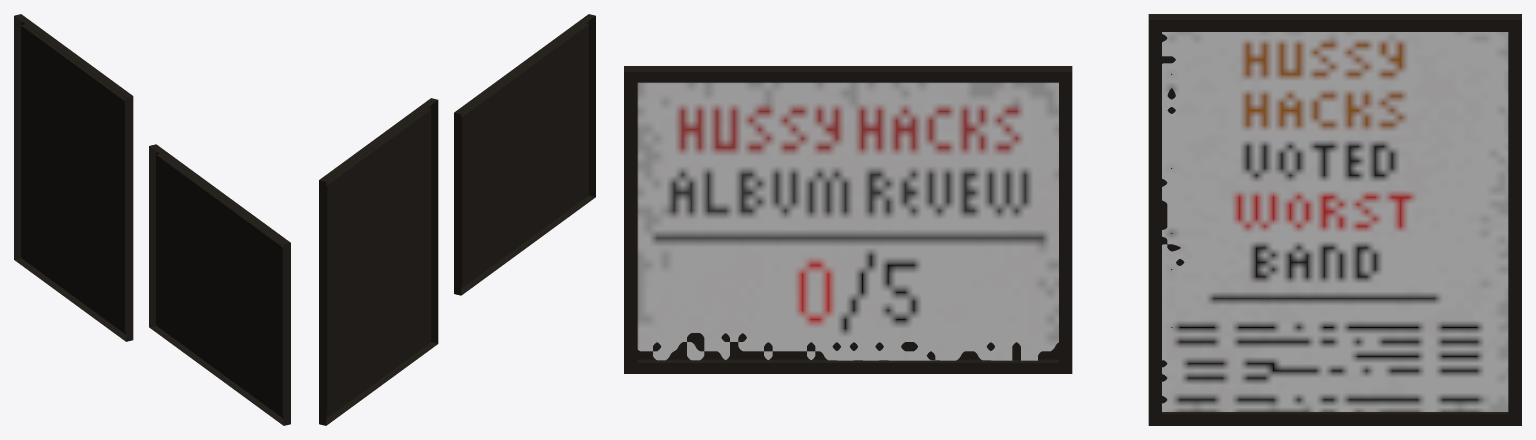
File: Hacks Articles.fbx
3 views of the same model, side by side, from view 1: azimuth 30°, elevation 25°; view 2: azimuth 150°, elevation 25°; view 3: azimuth 270°, elevation 25° (orthographic). The views are drawn at different scales.
Parts seen in each view (by area): view 1: Hacks Articles; view 2: Hacks Articles; view 3: Hacks Articles.
Boxes of the visible parts, <box> form: Hacks Articles: <box>14,14,290,425</box>; Hacks Articles: <box>319,14,595,425</box>; Hacks Articles: <box>624,14,1521,425</box>.
Size of the model in its own units: 0.0644 by 2.08 by 4.17.
